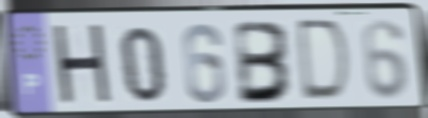0: (117, 24, 169, 105)
6: (359, 17, 412, 103), (180, 21, 228, 106)
B: (233, 19, 295, 107)
D: (297, 17, 354, 106)
H: (49, 20, 116, 111)
